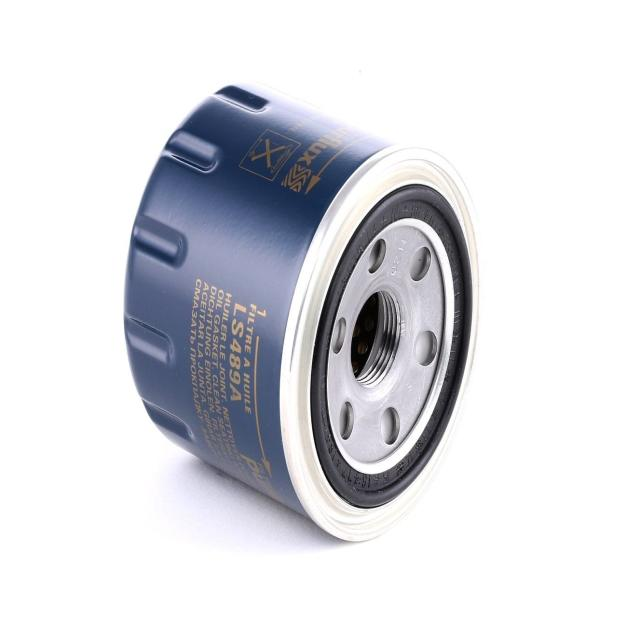oil_filter: (120, 72, 487, 552)
